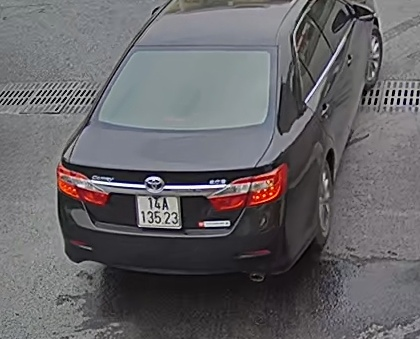vehicle plate: (133, 191, 181, 229)
